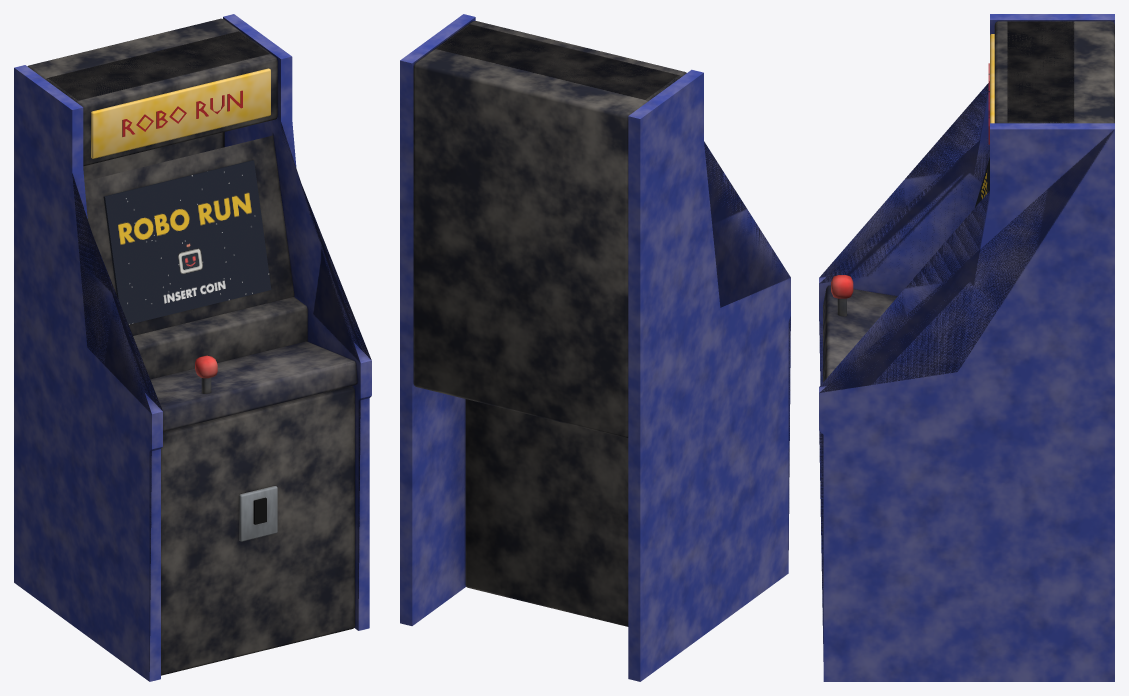
The model's file is arcade_cabinet.fbx.
The picture shows the model from 3 angles, left to right: view 1: azimuth 30°, elevation 25°; view 2: azimuth 150°, elevation 25°; view 3: azimuth 270°, elevation 25°; orthographic projection. The views are drawn at different scales.
Visible parts, largest first — view 1: Body, Screen, Glow, Lever; view 2: Body; view 3: Body, Lever.
Part boxes in pixels (bbox=[...]): Body: bbox=[14, 14, 371, 681]; Screen: bbox=[103, 160, 271, 324]; Glow: bbox=[91, 68, 270, 158]; Lever: bbox=[195, 355, 217, 393]; Body: bbox=[400, 14, 790, 681]; Body: bbox=[819, 14, 1114, 681]; Lever: bbox=[831, 275, 853, 316].
Bounding box in the file's own units: 2.95 × 6.6 × 3.2.
Materials: 2 (2 with a texture image).
